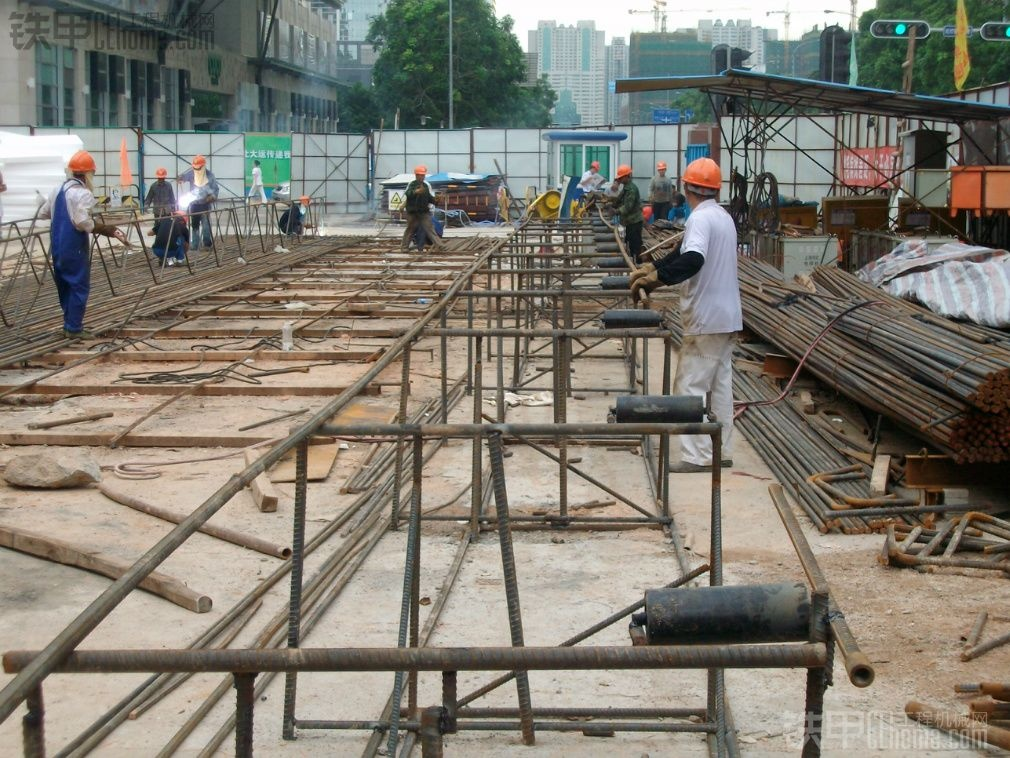red: (681, 157, 722, 205), (67, 150, 98, 184), (189, 154, 207, 172), (411, 164, 428, 183), (171, 208, 189, 225), (295, 194, 311, 211), (616, 165, 632, 182), (154, 166, 167, 182), (655, 160, 668, 175), (588, 160, 601, 174)
